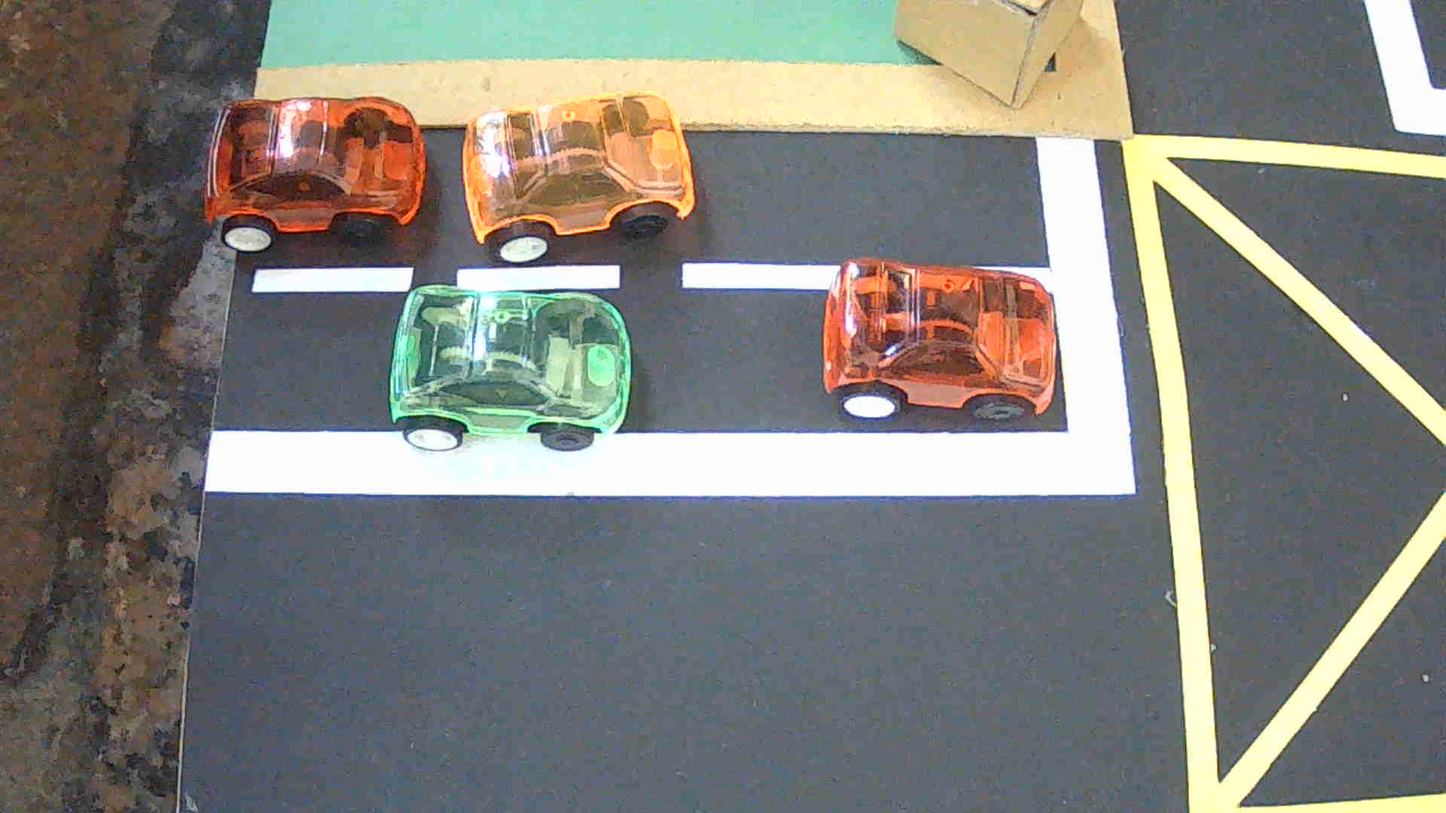Mobil hijau: (389, 285, 631, 451)
Mobil merah: (822, 258, 1056, 420), (205, 96, 426, 251)
Mobil orange: (462, 93, 694, 263)
